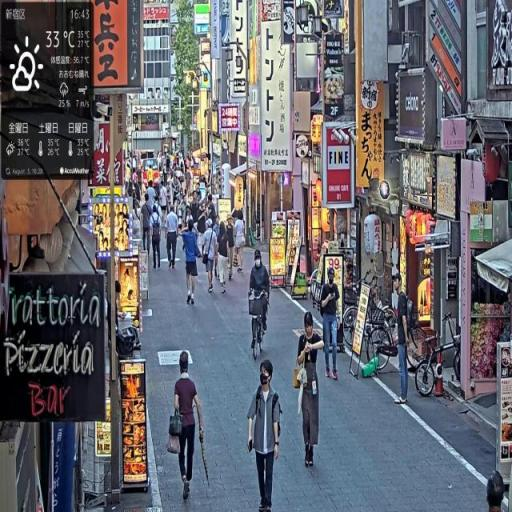person: (247, 359, 284, 512), (170, 352, 206, 507), (294, 311, 328, 470), (390, 273, 415, 407), (319, 267, 342, 381), (248, 250, 272, 353), (181, 221, 202, 307), (202, 220, 219, 297), (151, 196, 164, 274), (166, 205, 181, 270), (234, 209, 247, 273), (141, 195, 153, 257)
